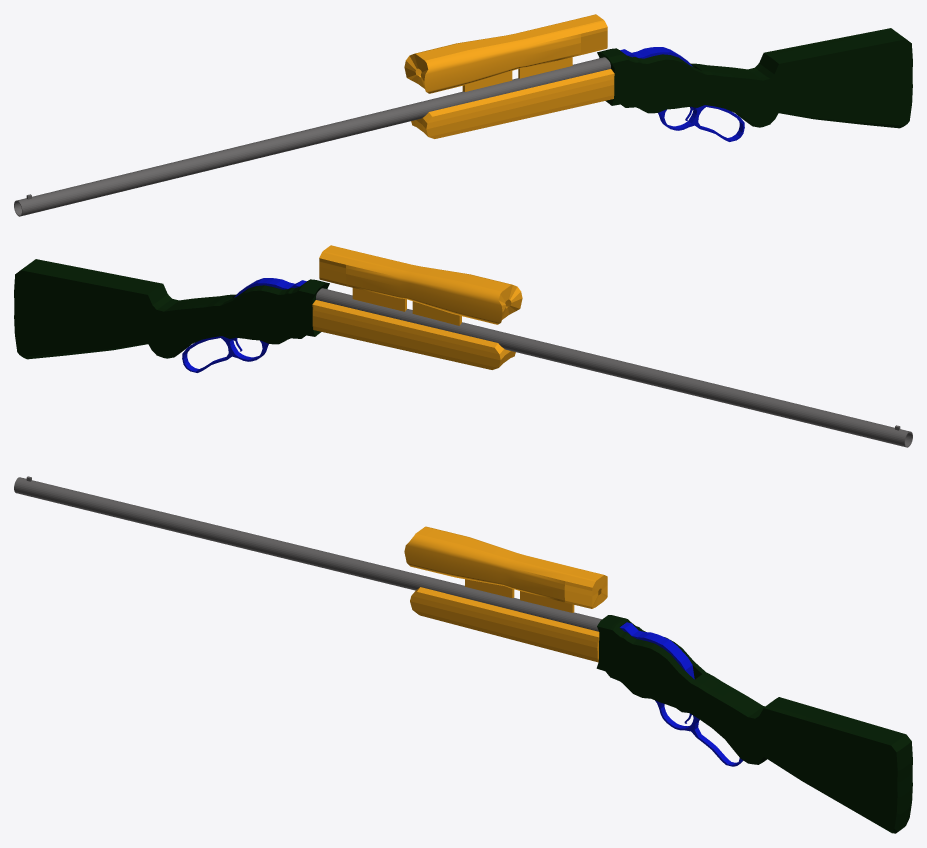
The model's file is sniper_low.fbx.
The picture shows the model from 3 angles, top to bottom: view 1: azimuth 30°, elevation 25°; view 2: azimuth 150°, elevation 25°; view 3: azimuth 330°, elevation 25°; orthographic projection.
Visible parts, largest first — view 1: Sniper_low; view 2: Sniper_low; view 3: Sniper_low.
Boxes of the visible parts, x1,y1,x2,y2 form: Sniper_low: [14, 14, 912, 216]; Sniper_low: [14, 245, 912, 447]; Sniper_low: [14, 476, 912, 833].
Bounding box in the file's own units: 496 × 98.41 × 19.32.
